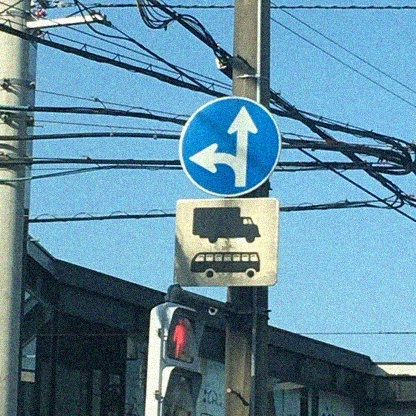Direction_sign: (172, 89, 288, 196)
